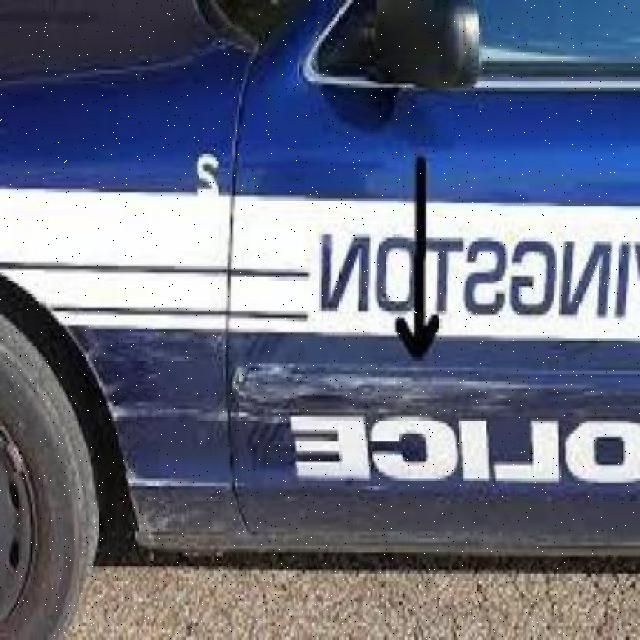damage: (61, 308, 244, 556), (219, 353, 611, 418)
